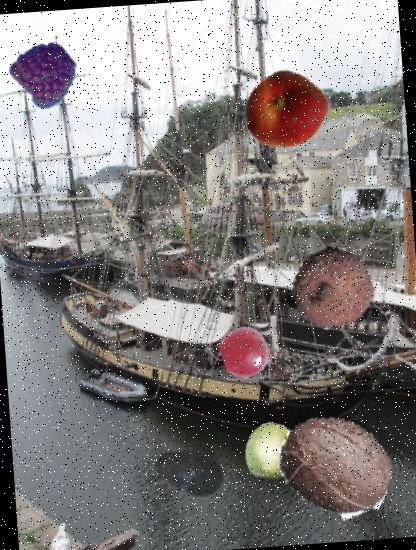Avocado: (152, 433, 228, 509)
Cocos: (271, 407, 396, 532)
Limes: (240, 420, 302, 482)
Lychee: (290, 245, 378, 334)
Nectarine: (240, 64, 330, 154)
Raspberry: (13, 39, 80, 107)
Redcurrant: (219, 323, 276, 379)
